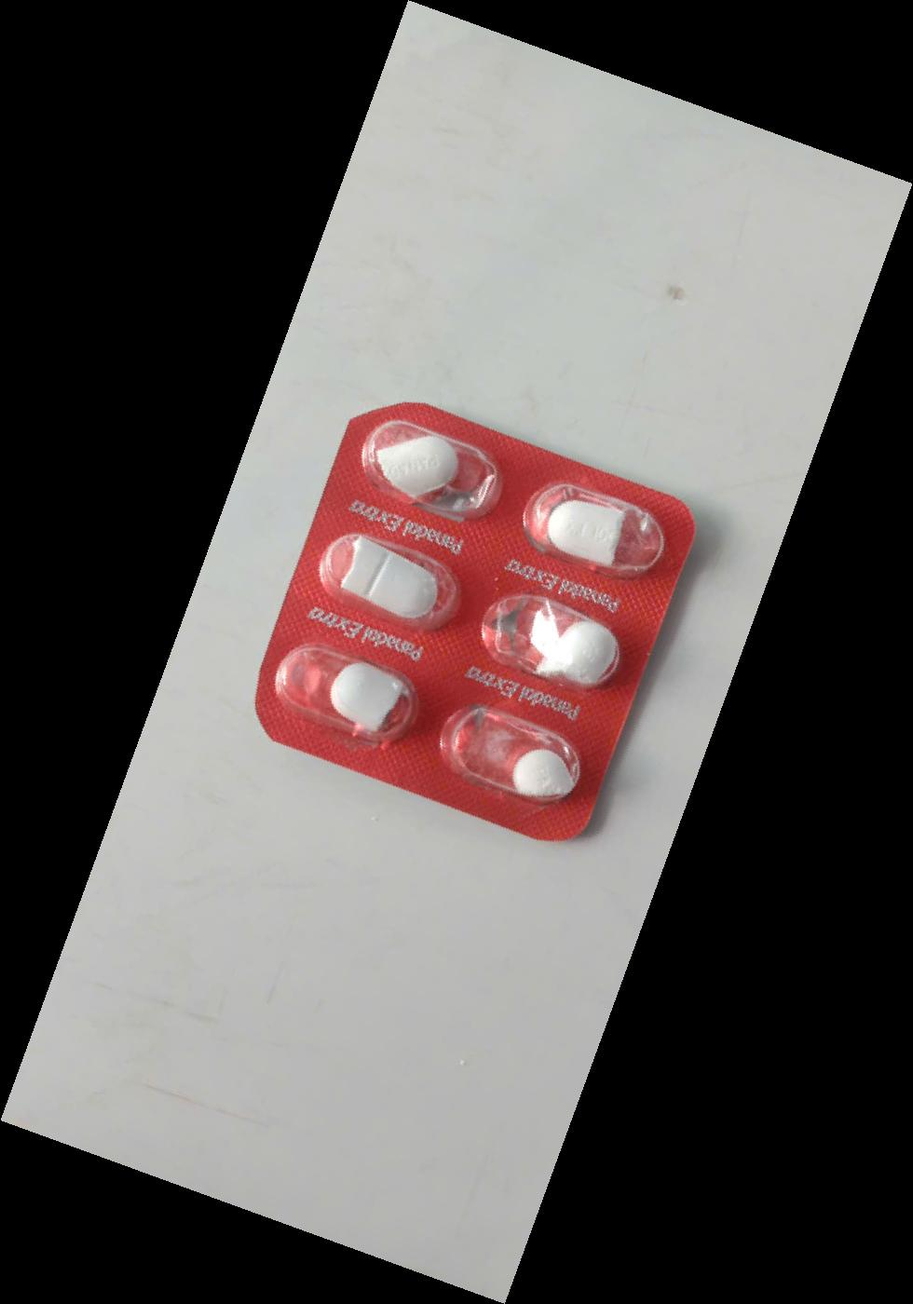Partial: (327, 394, 526, 541), (450, 566, 649, 713), (415, 685, 614, 832), (287, 508, 486, 655), (245, 623, 444, 770), (493, 459, 692, 606)
